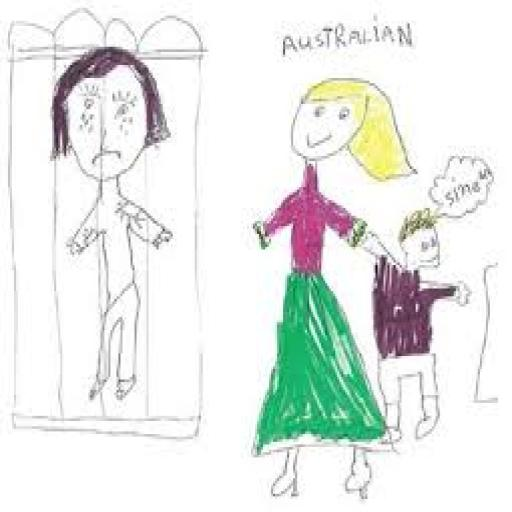person: (232, 63, 402, 512), (32, 43, 194, 426), (367, 169, 480, 453)
